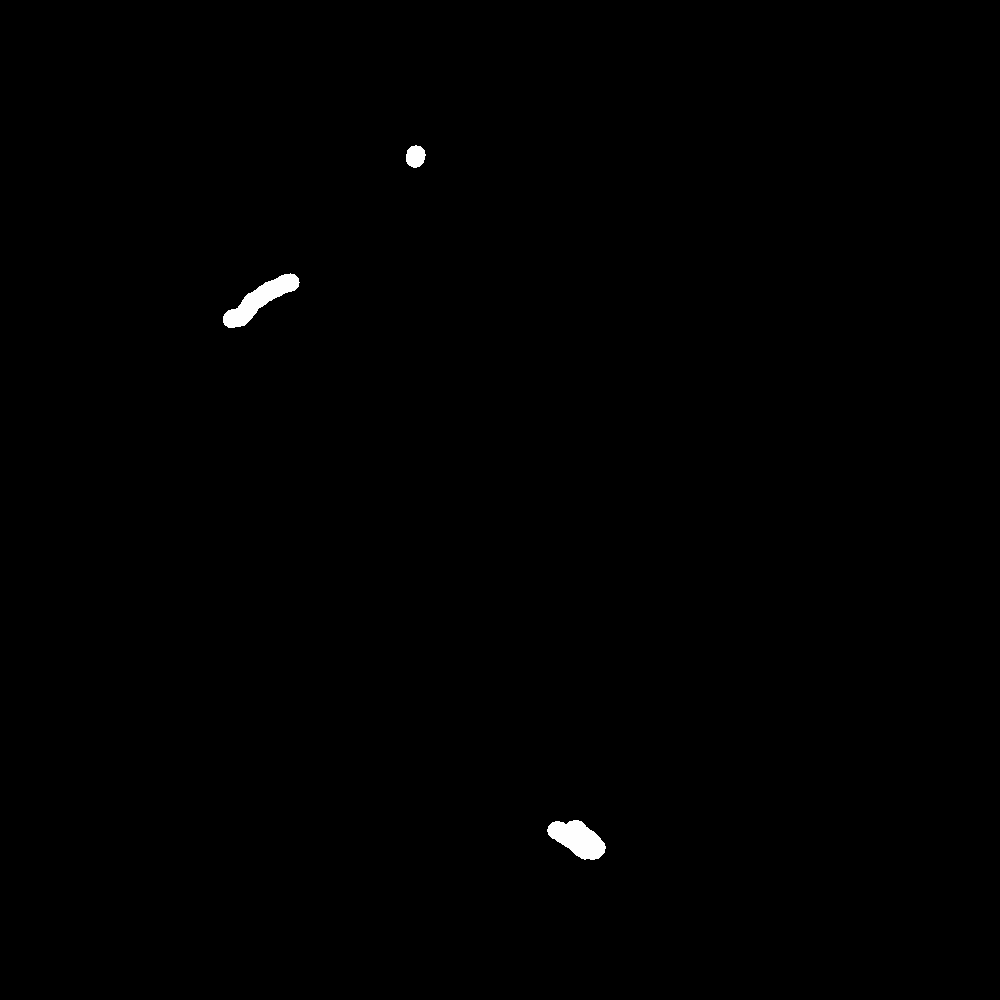illegal: (681, 672, 808, 723)
